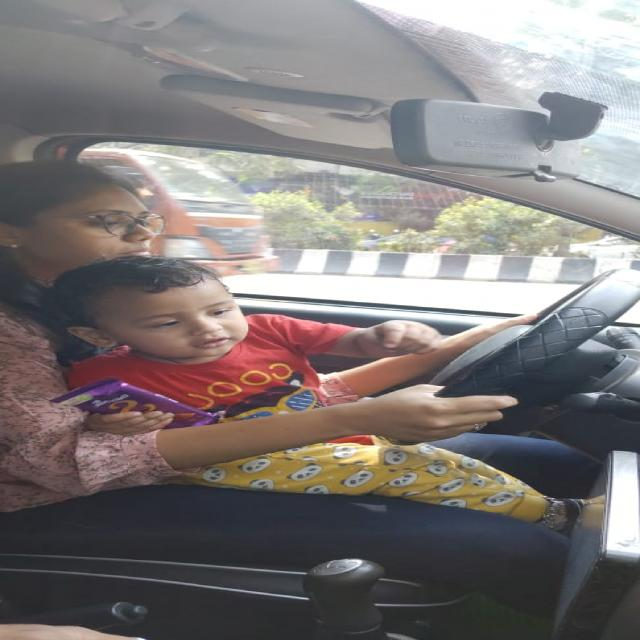child: (37, 253, 274, 361)
person: (0, 157, 168, 269)
